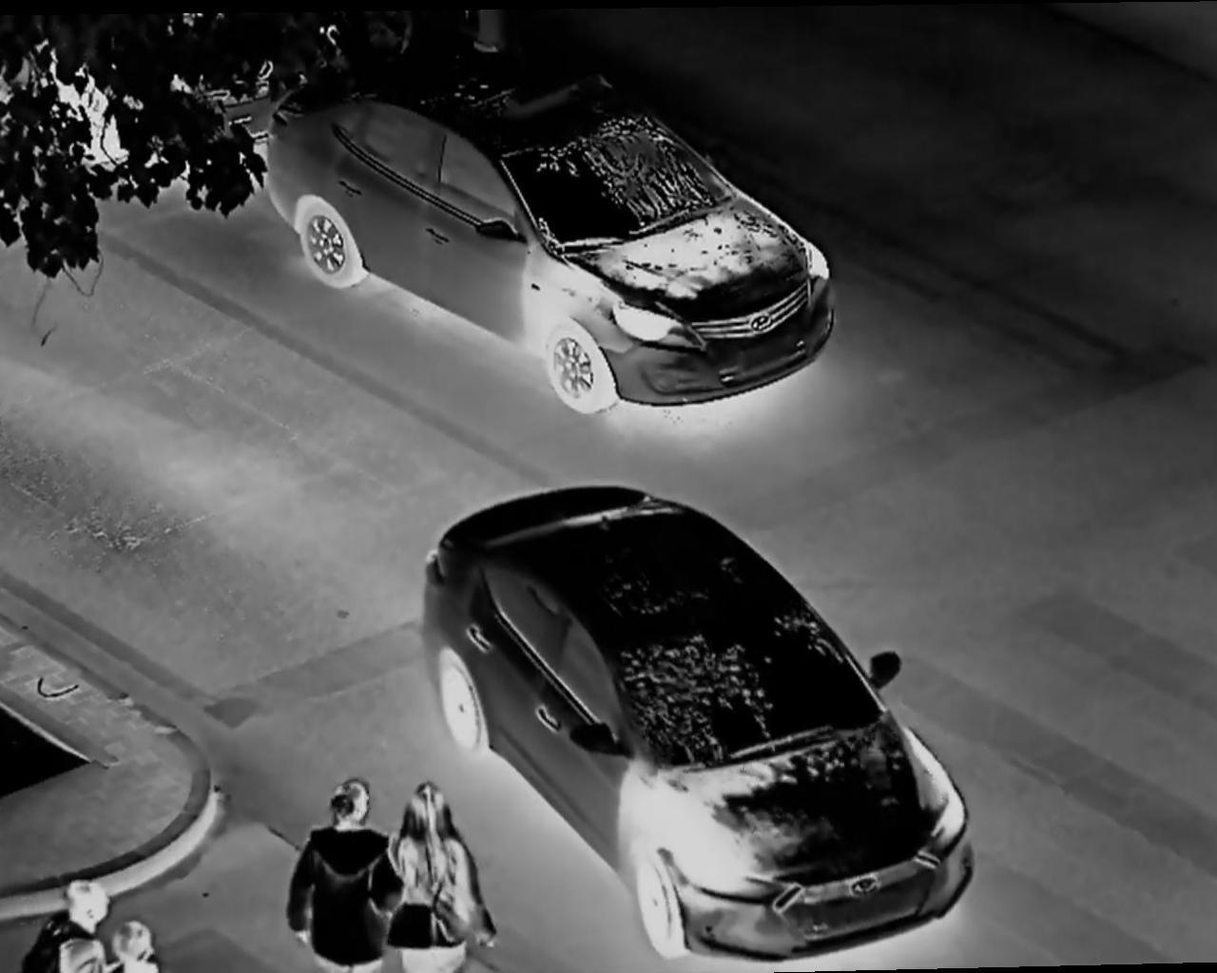person: (286, 773, 402, 957), (390, 785, 493, 973), (31, 871, 105, 973), (106, 908, 154, 973)
